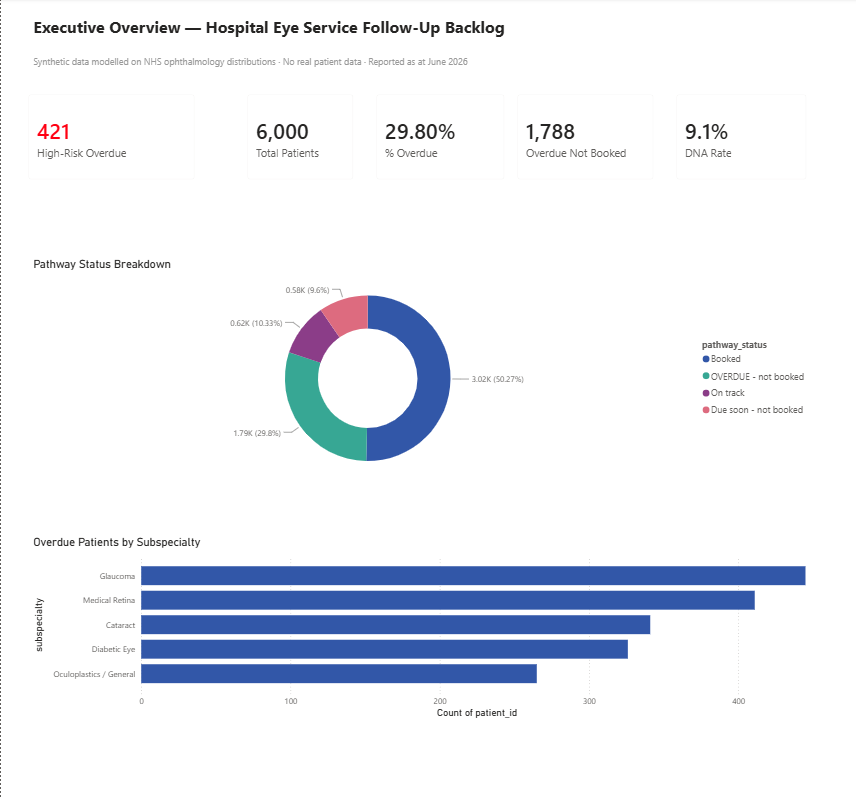

What the dashboard file says about the page in this screenshot:
{"tool":"powerbi","page":{"name":"Executive Overview","canvas":[1280,1200],"ordinal":0},"visuals":[{"type":"cardVisual","fields":{"Data":["_Measures.Total Patients"]},"box":[350.7,126.9,192.5,161.2],"z":0},{"type":"cardVisual","fields":{"Data":["_Measures.Overdue Not Booked"]},"box":[753.7,126.9,237.3,161.2],"z":1000},{"type":"cardVisual","fields":{"Data":["_Measures.% Overdue"]},"box":[543.3,126.9,225.4,161.2],"z":2000},{"type":"cardVisual","fields":{"Data":["_Measures.DNA Rate"]},"box":[991,126.9,228.4,161.2],"z":3000},{"type":"cardVisual","fields":{"Data":["_Measures.High-Risk Overdue"]},"box":[23.9,126.9,282.1,161.2],"z":4000},{"type":"donutChart","title":"Pathway Status Breakdown","fields":{"Category":["Followups.pathway_status"],"Y":["Count(Followups.patient_id)"]},"box":[43.3,386.6,1170.1,343.3],"z":5000},{"type":"clusteredBarChart","title":"Overdue Patients by Subspecialty","fields":{"Category":["Followups.subspecialty"],"Y":["Count(Followups.patient_id)"]},"box":[43.3,801.5,1183.6,279.1],"z":6000},{"type":"textbox","box":[43.4,21.2,772.2,97.3],"z":7000},{"type":"textbox","box":[43.3,80.6,701.5,37.3],"z":8000}]}

Visuals, with their boxes in screenshot pixels (x1, y1, x2, y2), scaled from the page's 1280x1200 canvas onto the 856x798 screenshot:
cardVisual - _Measures.Total Patients: 235, 84, 363, 192
cardVisual - _Measures.Overdue Not Booked: 504, 84, 663, 192
cardVisual - _Measures.% Overdue: 363, 84, 514, 192
cardVisual - _Measures.DNA Rate: 663, 84, 815, 192
cardVisual - _Measures.High-Risk Overdue: 16, 84, 205, 192
"Pathway Status Breakdown" donutChart: 29, 257, 811, 485
"Overdue Patients by Subspecialty" clusteredBarChart: 29, 533, 820, 719
textbox: 29, 14, 545, 79
textbox: 29, 54, 498, 78
